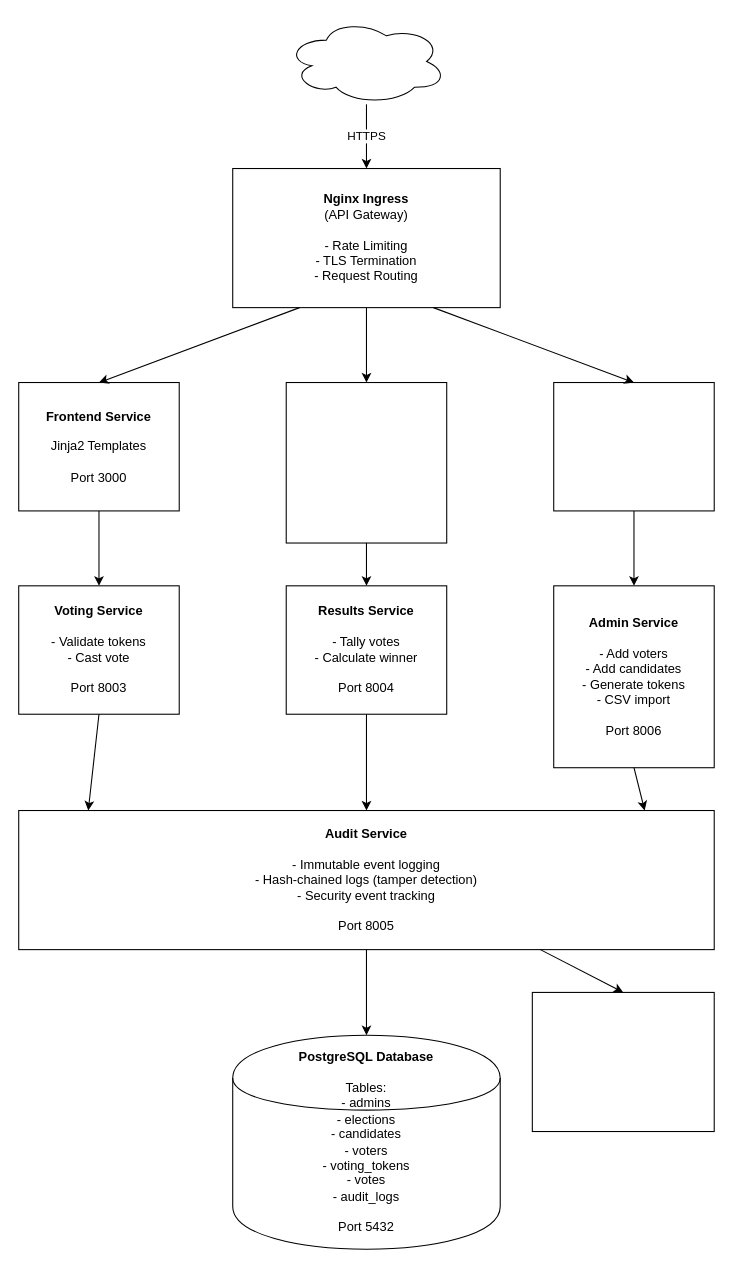
Image size: 733x1268. Some labels were removed from this diagram. Here are the shapes that lost their labels. From the top down, the box of each, then its label:
(285, 18, 447, 104): Internet
(285, 381, 447, 543): Auth Service - Admin register - Admin login - JWT tokens Port 8001
(553, 381, 714, 511): Election Service - Create elections - Manage status Port 8002
(531, 991, 714, 1132): Email Service - Send voting URLs - Send results URLs - Track delivery Port 8007
